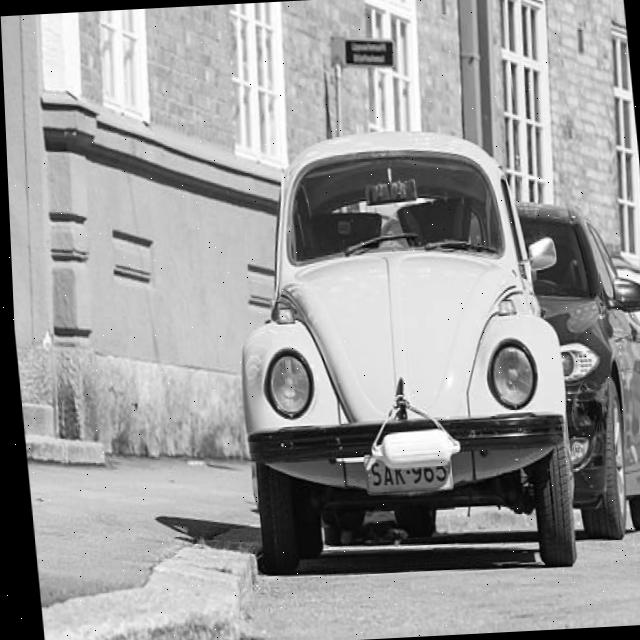vehicle: (215, 124, 576, 572), (459, 173, 640, 528)
